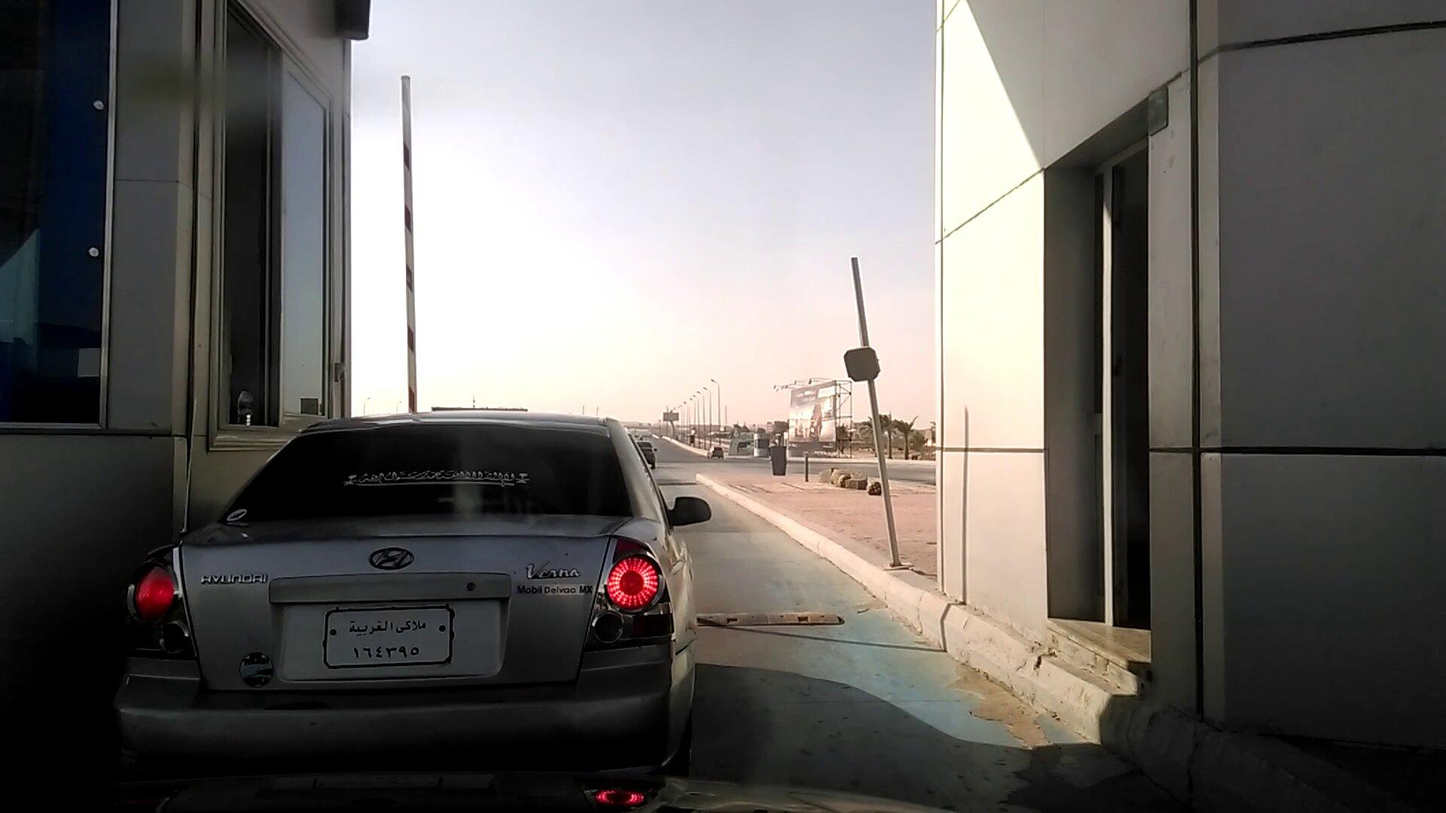Bump: (693, 598, 845, 627)
